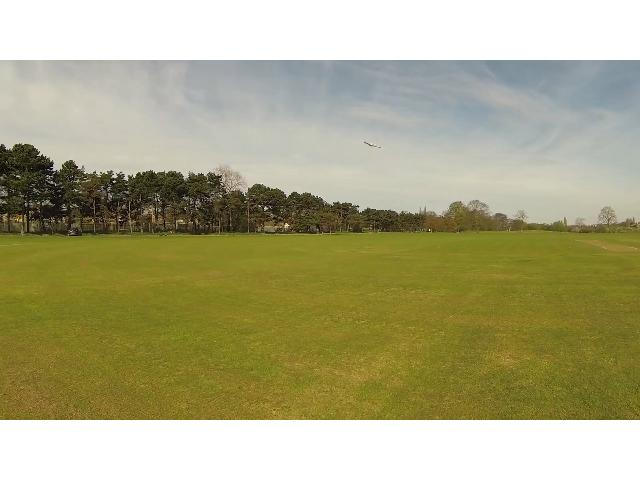Anti-Drone: (364, 135, 382, 151)
